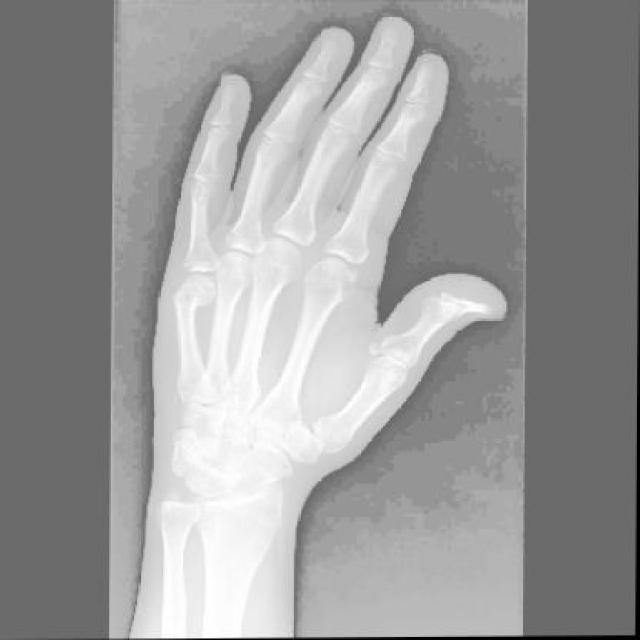Fracture: (171, 278, 207, 311)
